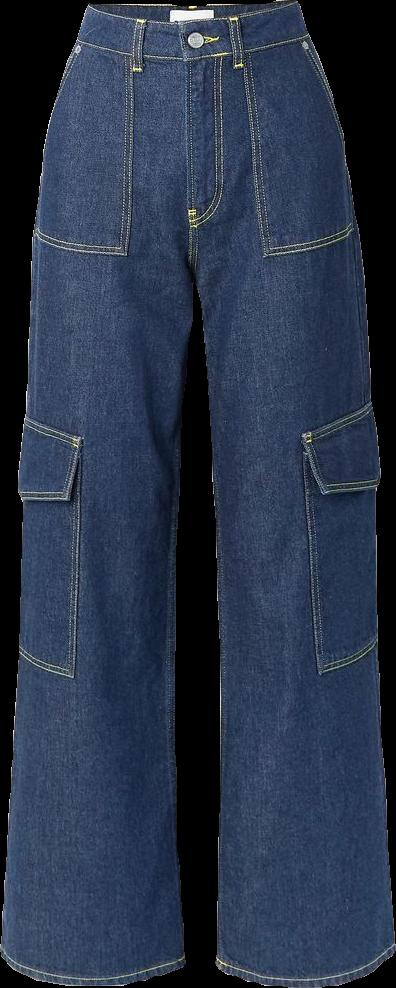Hemline: (212, 943, 395, 986), (0, 946, 184, 986)
Pantleg: (181, 1, 394, 987), (0, 4, 193, 983)
Waistline: (73, 32, 310, 72), (83, 0, 300, 27)
